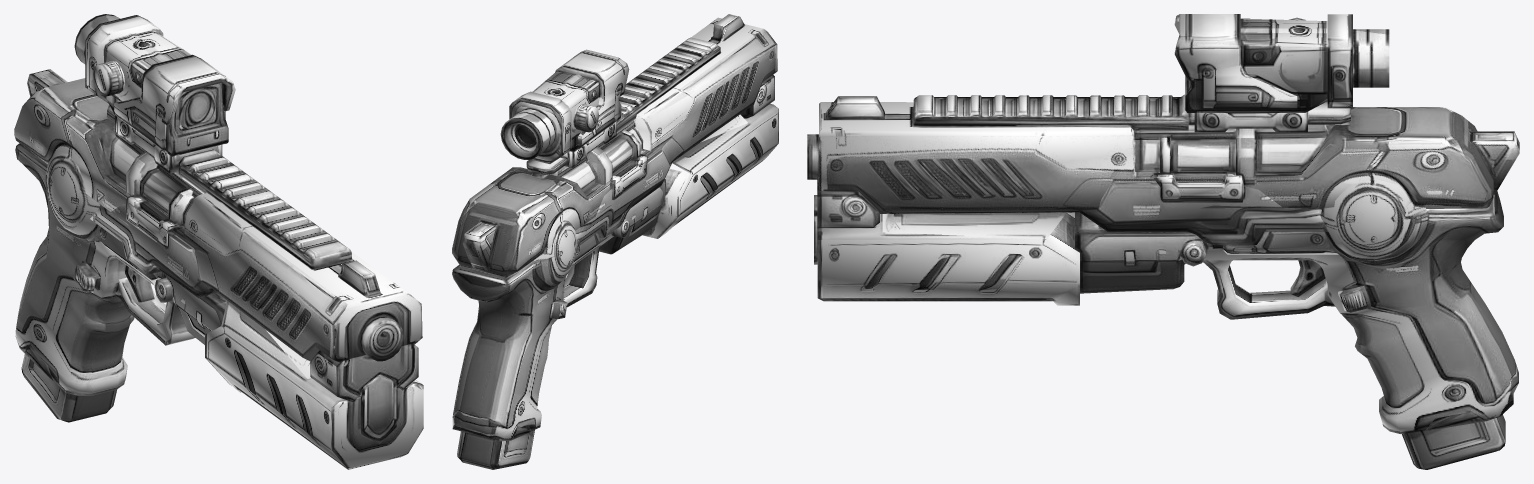
3 views of the same model, side by side, from view 1: azimuth 30°, elevation 25°; view 2: azimuth 150°, elevation 25°; view 3: azimuth 270°, elevation 25° (orthographic). The views are drawn at different scales.
Parts seen in each view (by area): view 1: gun; view 2: gun; view 3: gun.
Part boxes in pixels (bbox=[...]): gun: bbox=[14, 14, 423, 469]; gun: bbox=[452, 14, 778, 469]; gun: bbox=[807, 14, 1519, 469].
Bounding box in the file's own units: 0.1753 × 0.6753 × 0.9995.
Materials: 3 (3 with a texture image).
